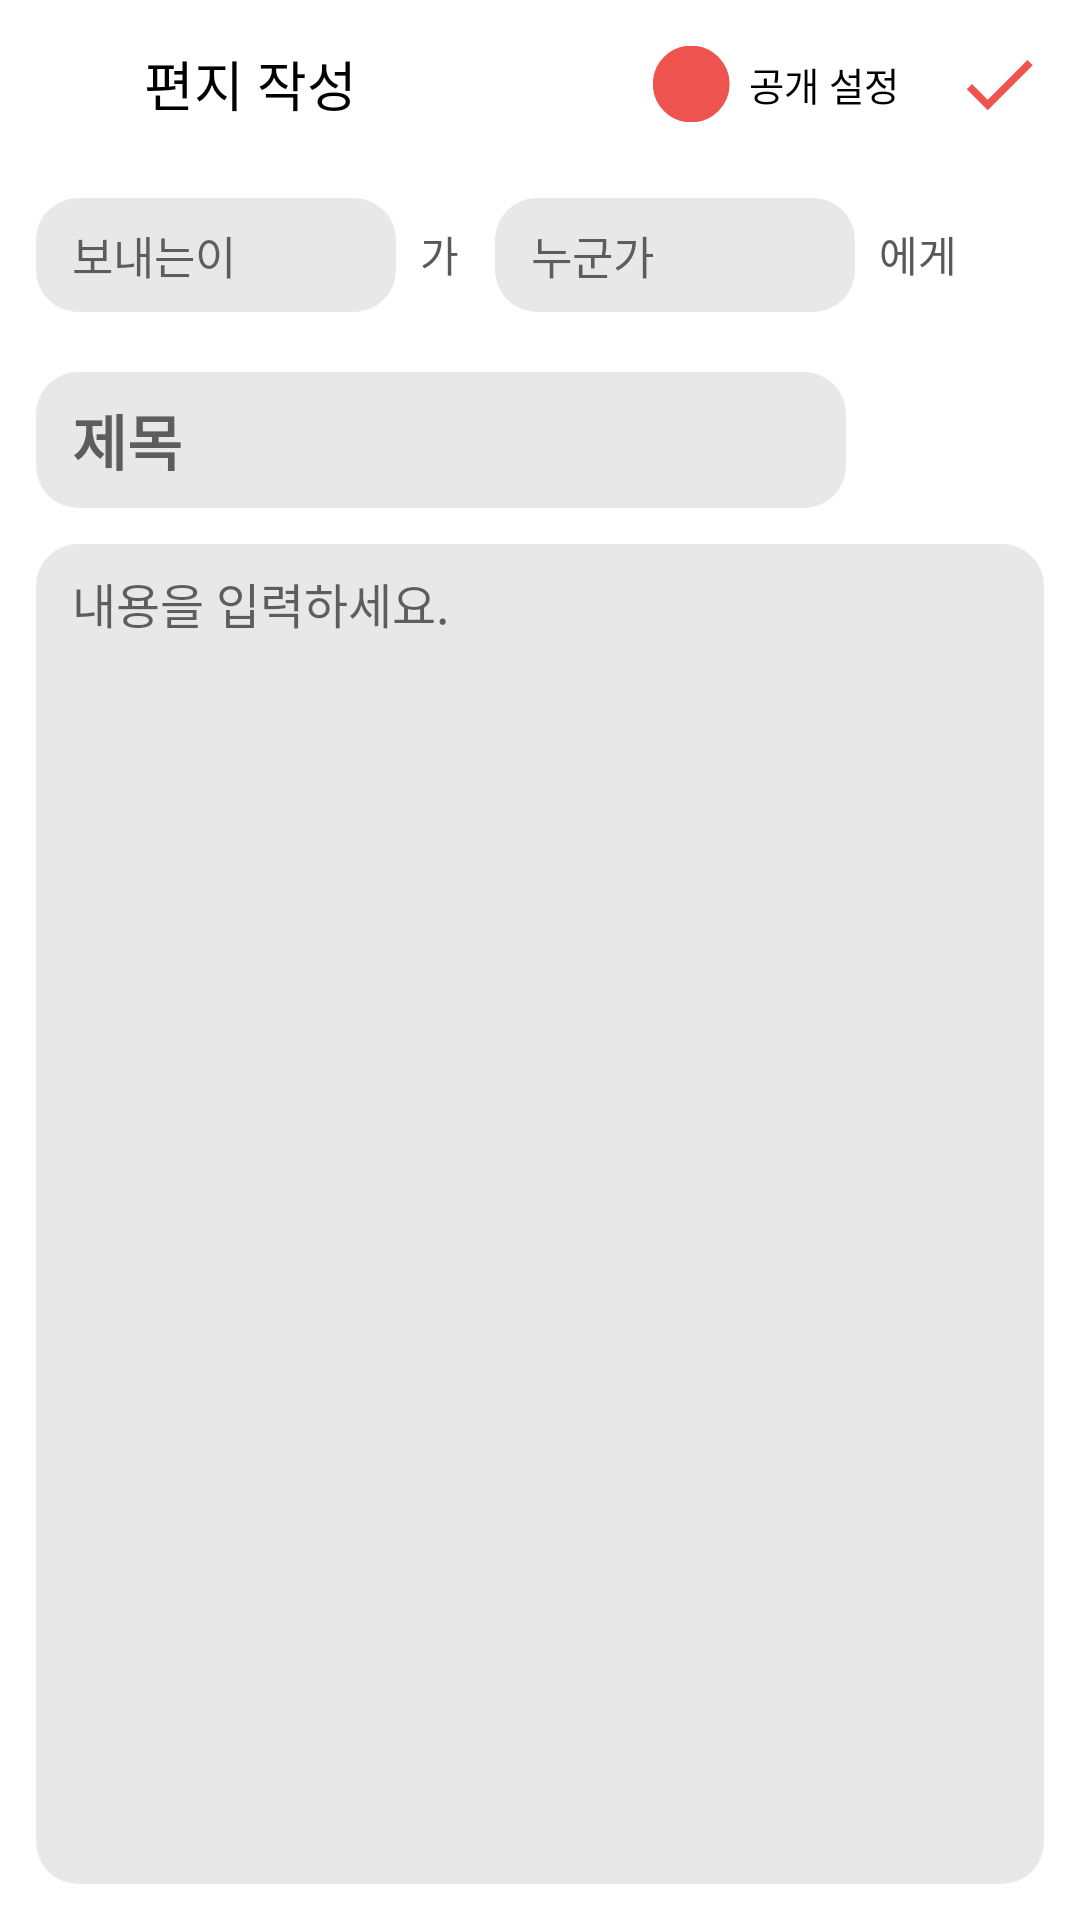

Named icons in this screenshot (1080w x 1920h) and their centers, point (x, y):
done: point (1000, 85)
